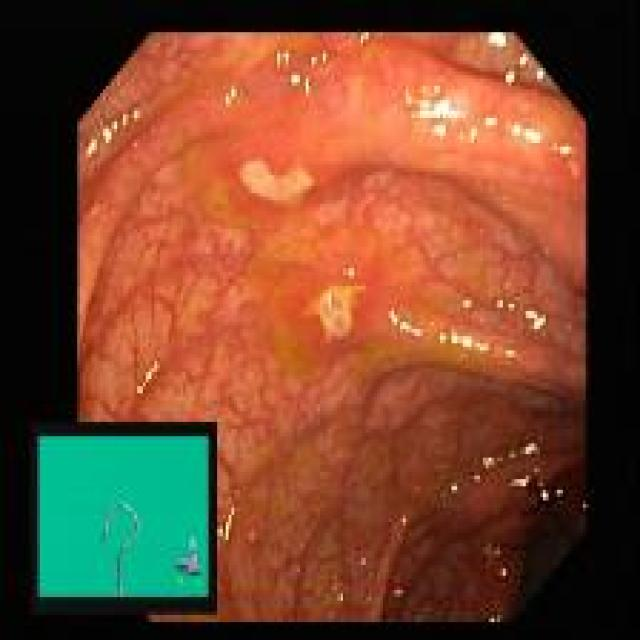ulcerative-colitis: (79, 31, 585, 622)
